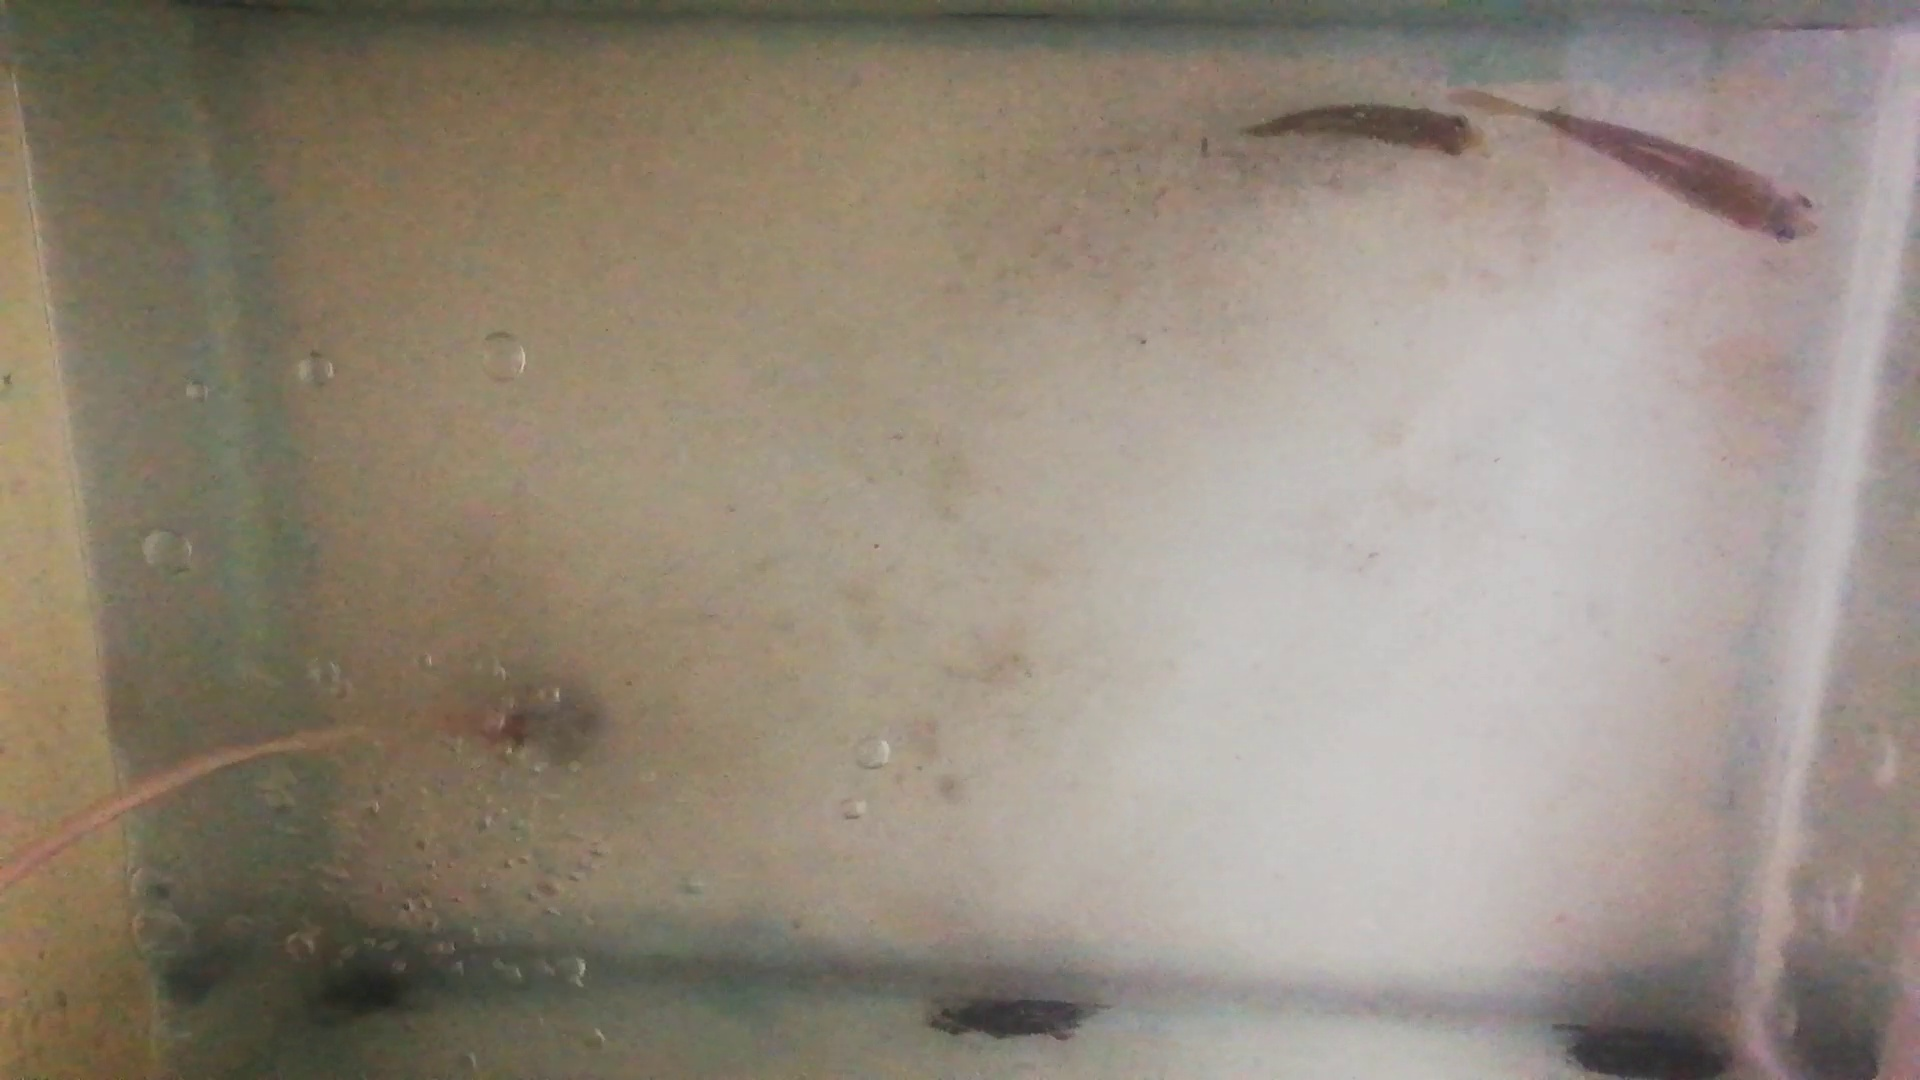fish: (1528, 104, 1824, 247), (1242, 103, 1481, 160)
